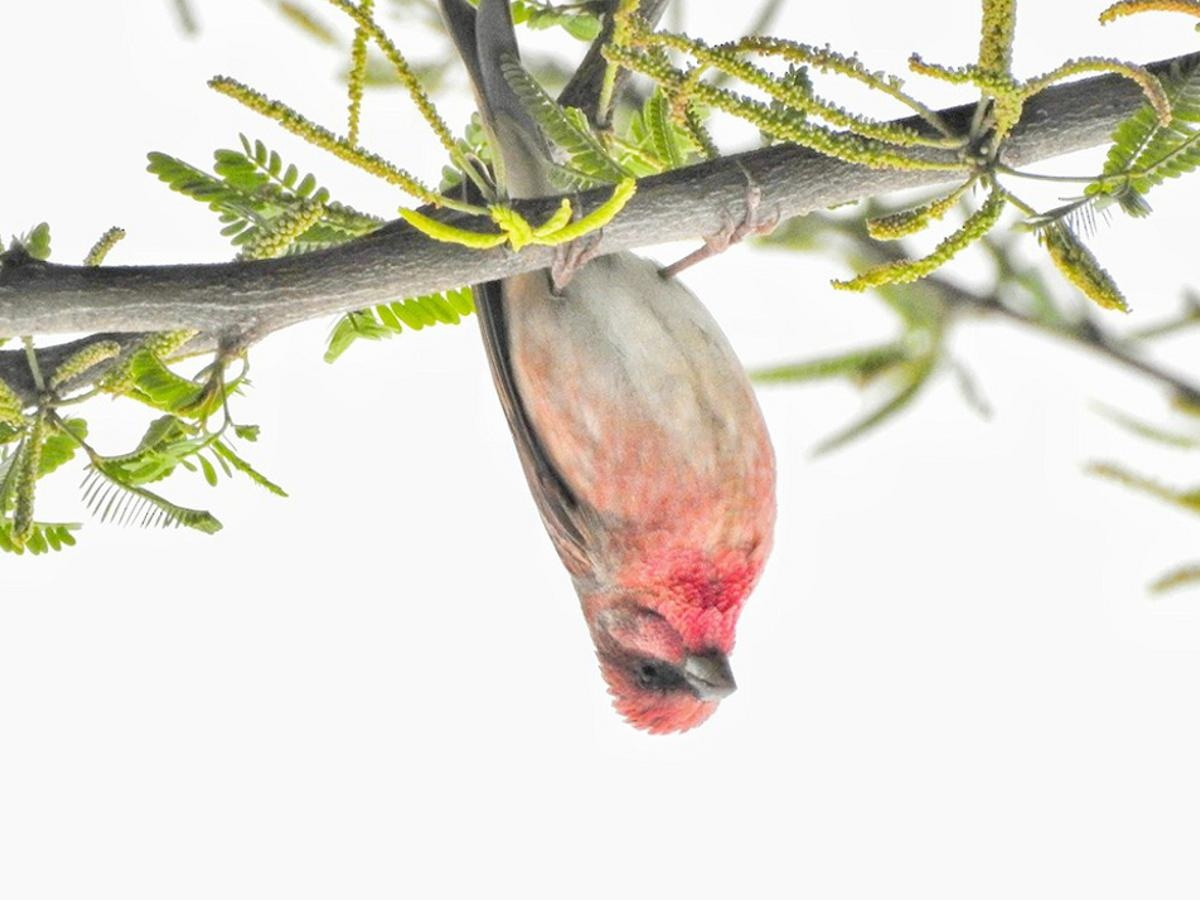rosefinch: (504, 140, 801, 745)
